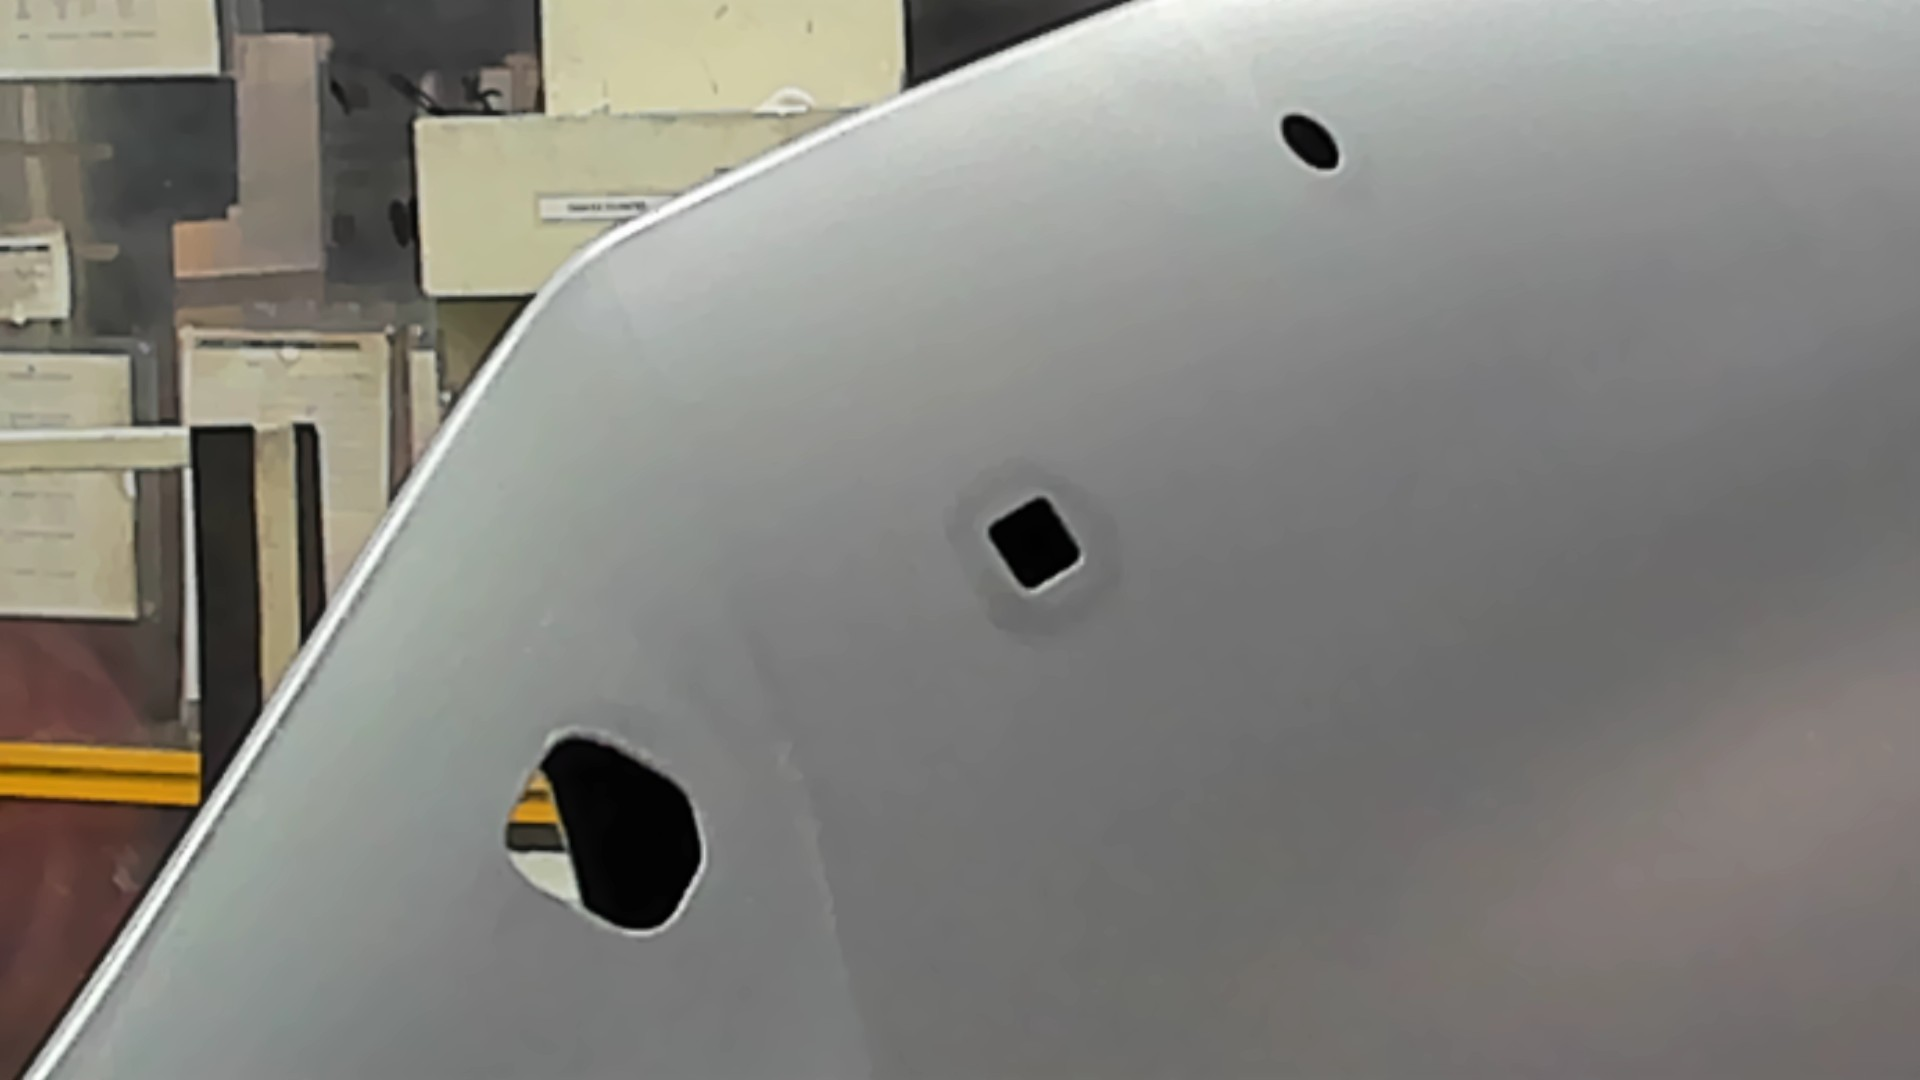chico: (1276, 109, 1342, 174)
grande: (495, 723, 716, 945)
mediano: (982, 487, 1089, 597)
